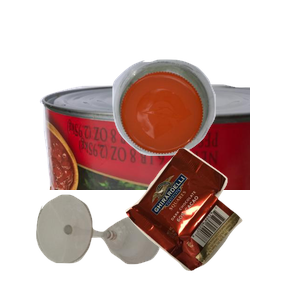glass: (34, 192, 187, 300)
metal: (37, 81, 277, 261)
plastic: (110, 57, 300, 205)
trash: (123, 145, 300, 300)
